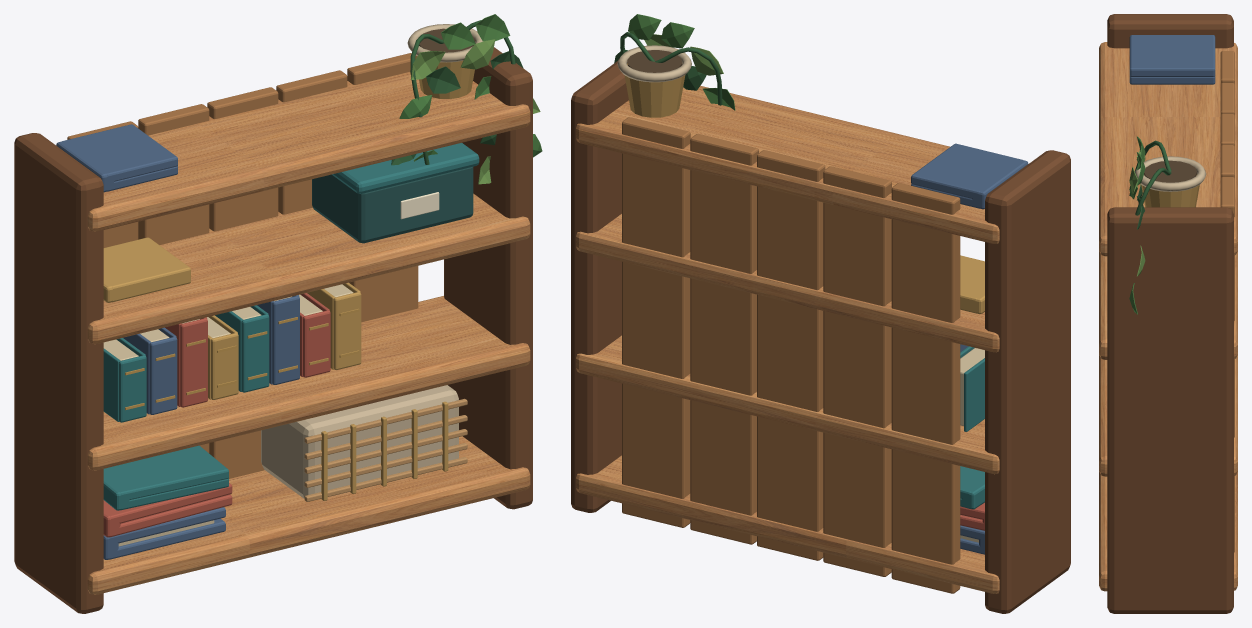
The picture shows the model from 3 angles, left to right: view 1: azimuth 30°, elevation 25°; view 2: azimuth 150°, elevation 25°; view 3: azimuth 270°, elevation 25°; orthographic projection. The views are drawn at different scales.
Visible parts, largest first — view 1: loft_oak, loft_wood_dark, loft_wood, loft_teal, loft_blue, loft_ochre, loft_ceramic, loft_red, loft_teal_dark, loft_wood_edge, loft_leaf, loft_pages (+4 smaller); view 2: loft_wood, loft_wood_dark, loft_oak, loft_blue, loft_ochre, loft_teal, loft_leaf, loft_leaf_dark, loft_ceramic, loft_soil, loft_leaf_light, loft_pages; view 3: loft_wood_dark, loft_oak, loft_blue, loft_wood, loft_ceramic, loft_ochre, loft_soil, loft_leaf_dark, loft_leaf, loft_leaf_light.
Boxes of the visible parts, x1=… form: loft_oak: x1=87, y1=72, x2=530, y2=594; loft_wood_dark: x1=14, y1=47, x2=532, y2=613; loft_wood: x1=67, y1=53, x2=418, y2=478; loft_teal: x1=103, y1=143, x2=479, y2=510; loft_blue: x1=56, y1=124, x2=299, y2=559; loft_ochre: x1=103, y1=55, x2=474, y2=500; loft_ceramic: x1=261, y1=24, x2=483, y2=498; loft_red: x1=103, y1=293, x2=330, y2=537; loft_teal_dark: x1=312, y1=167, x2=473, y2=243; loft_wood_edge: x1=304, y1=398, x2=467, y2=501; loft_leaf: x1=399, y1=14, x2=542, y2=161; loft_pages: x1=103, y1=284, x2=353, y2=546; loft_wood: x1=622, y1=117, x2=960, y2=593; loft_wood_dark: x1=571, y1=61, x2=1070, y2=613; loft_oak: x1=576, y1=85, x2=999, y2=593; loft_blue: x1=911, y1=143, x2=1028, y2=554; loft_ochre: x1=624, y1=63, x2=984, y2=314; loft_teal: x1=960, y1=346, x2=984, y2=509; loft_leaf: x1=628, y1=14, x2=735, y2=110; loft_leaf_dark: x1=614, y1=32, x2=722, y2=105; loft_ceramic: x1=617, y1=45, x2=691, y2=82; loft_soil: x1=627, y1=50, x2=682, y2=72; loft_leaf_light: x1=644, y1=34, x2=723, y2=75; loft_pages: x1=960, y1=348, x2=984, y2=542; loft_wood_dark: x1=1107, y1=14, x2=1233, y2=613; loft_oak: x1=1099, y1=42, x2=1237, y2=591; loft_blue: x1=1129, y1=35, x2=1215, y2=84; loft_wood: x1=1220, y1=51, x2=1234, y2=552; loft_ceramic: x1=1135, y1=156, x2=1206, y2=191; loft_ochre: x1=1141, y1=175, x2=1199, y2=207; loft_soil: x1=1144, y1=160, x2=1196, y2=182; loft_leaf_dark: x1=1129, y1=140, x2=1171, y2=229; loft_leaf: x1=1129, y1=136, x2=1145, y2=314; loft_leaf_light: x1=1129, y1=150, x2=1145, y2=276.
Bounding box in the file's own units: 2.5 × 2.42 × 0.68.
17 materials, 1 textured.
